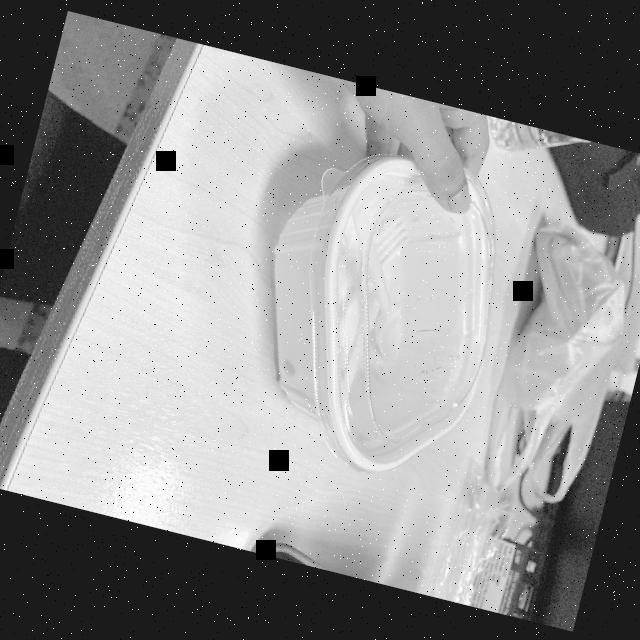plastic_box: (222, 109, 542, 498)
